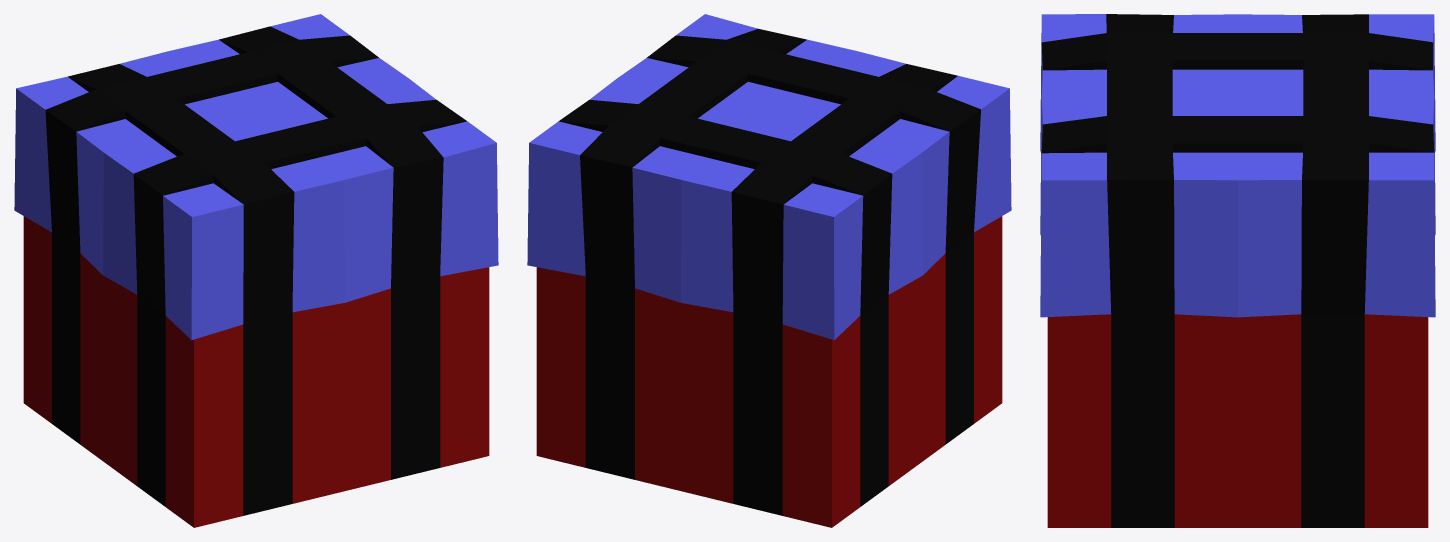
Rendered from supplyDrop.glb.
3 renders of one model, left to right at view 1: azimuth 30°, elevation 25°; view 2: azimuth 150°, elevation 25°; view 3: azimuth 270°, elevation 25°, orthographic. The views are drawn at different scales.
Visible parts, largest first — view 1: Cube; view 2: Cube; view 3: Cube.
Part boxes in pixels (left/top/right/bottom): Cube: left=14, top=14, right=498, bottom=527; Cube: left=527, top=14, right=1011, bottom=527; Cube: left=1040, top=14, right=1435, bottom=527.
Size of the model in its own units: 4.16 by 4.17 by 4.16.
Materials: 1 (1 with a texture image).
